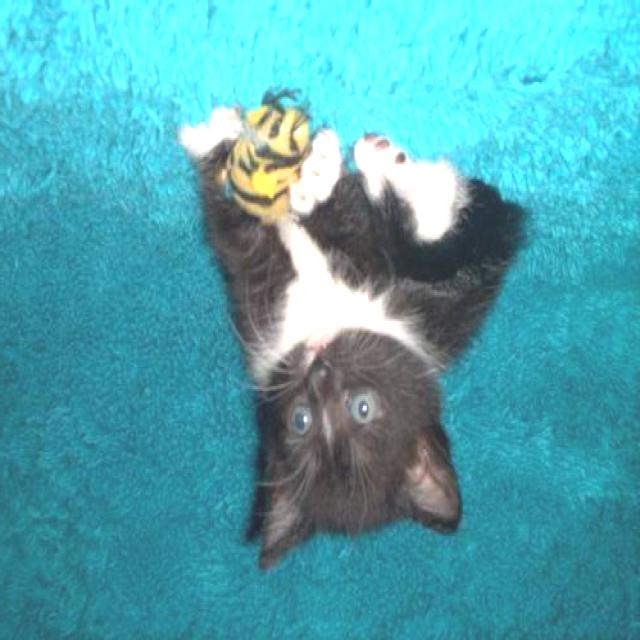Kucing: (135, 87, 504, 598)
